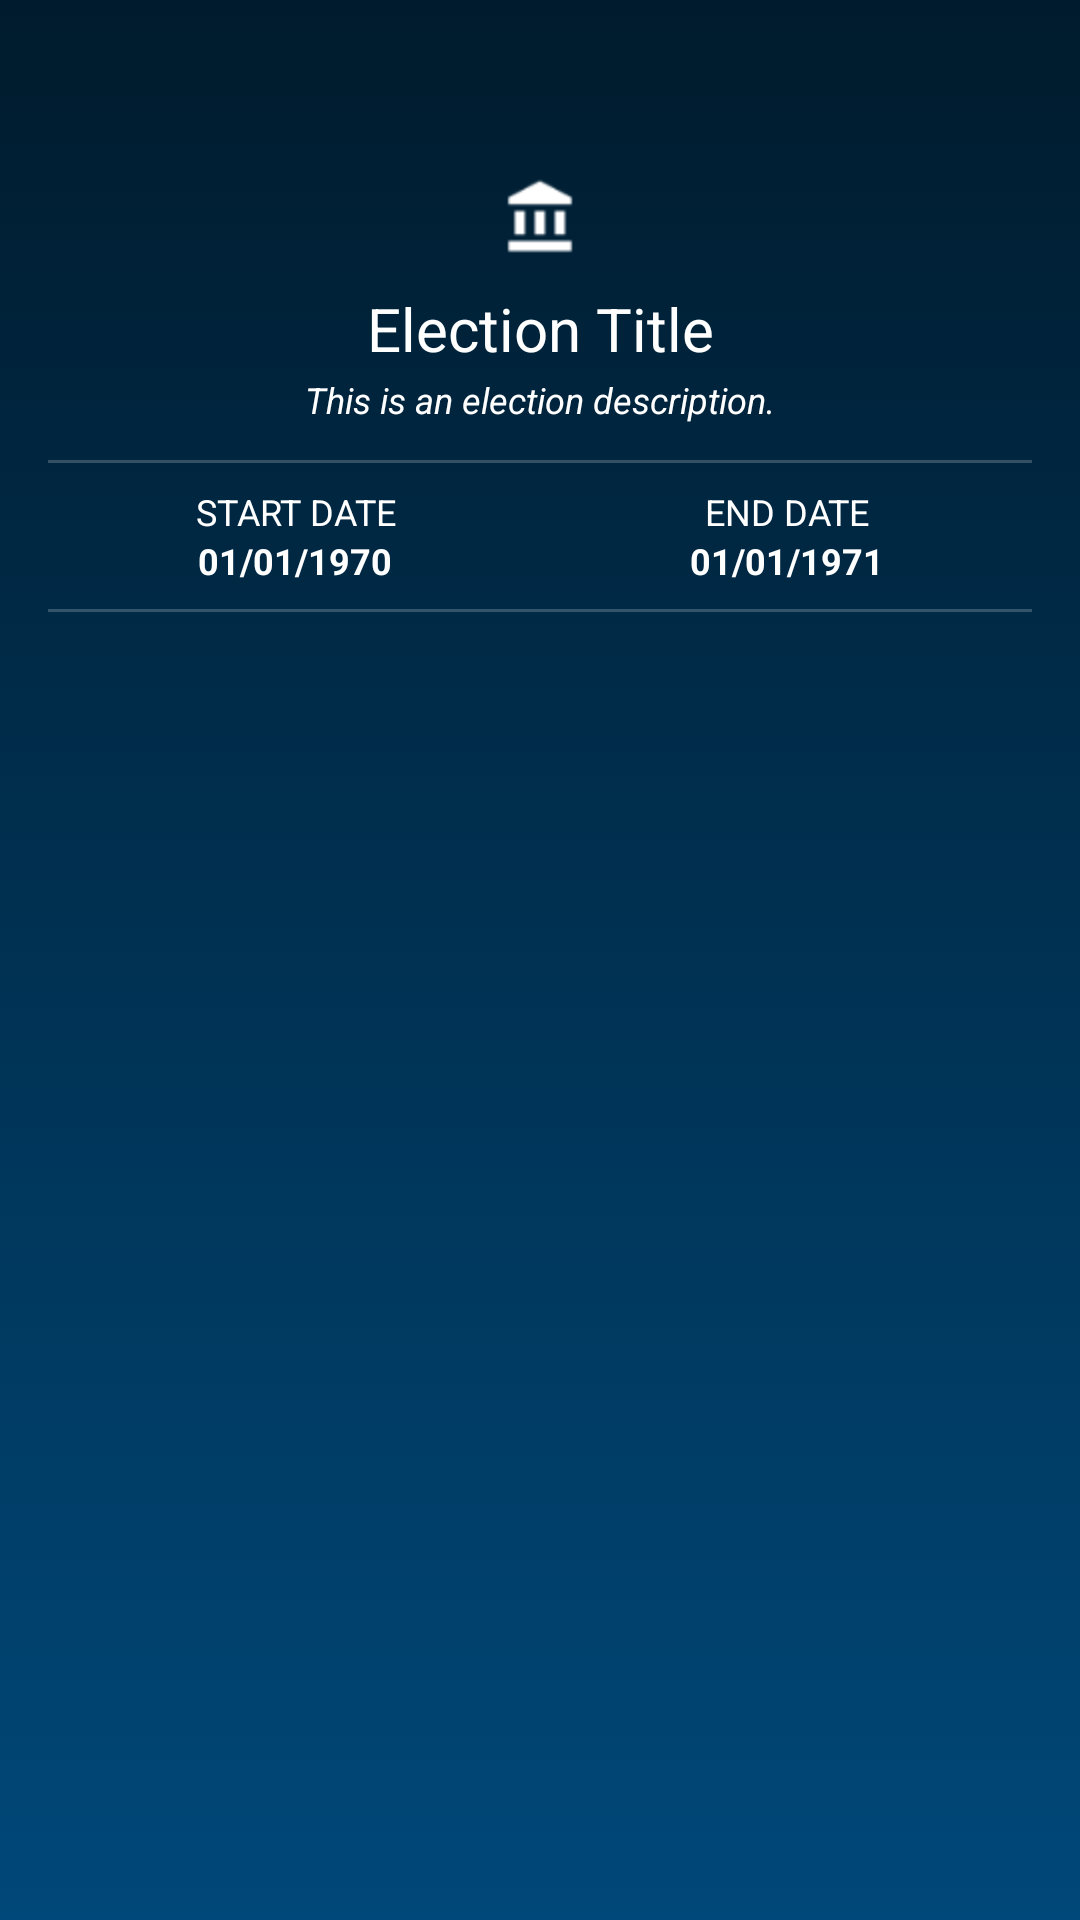

Named icons in this screenshot (1080px×1920px) and their centers, (x=x, y=y):
institution: (x=540, y=216)
